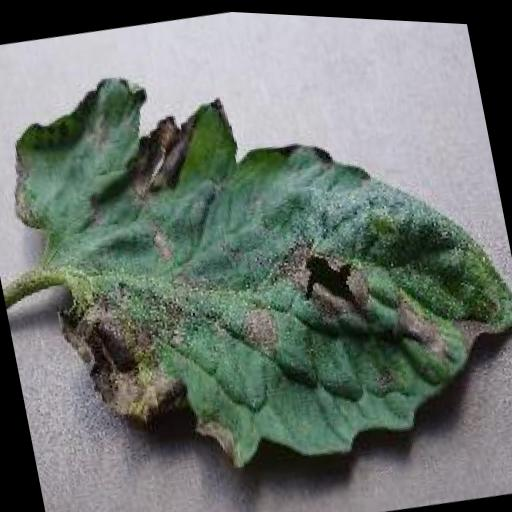Early Blight: (0, 1, 512, 511)
